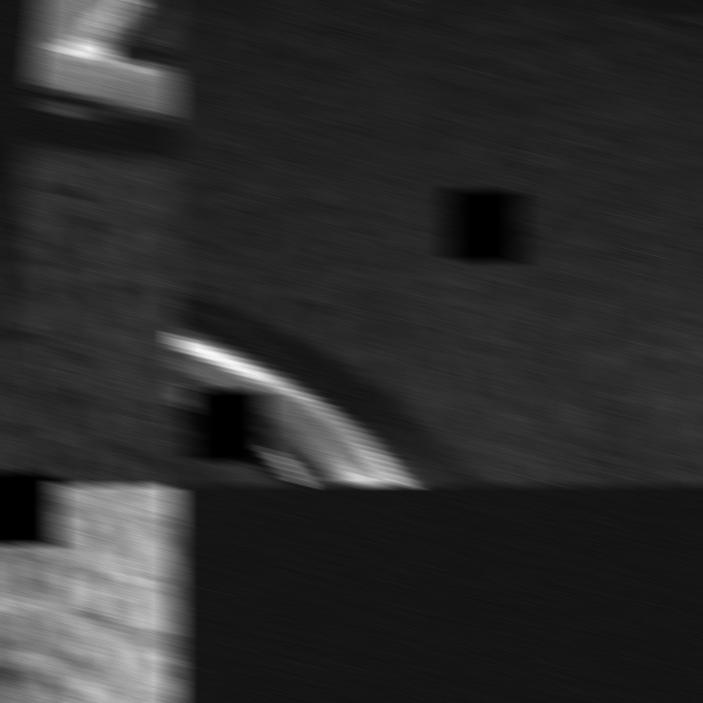Airbag: (169, 0, 703, 486), (0, 0, 180, 486), (0, 484, 180, 703)
